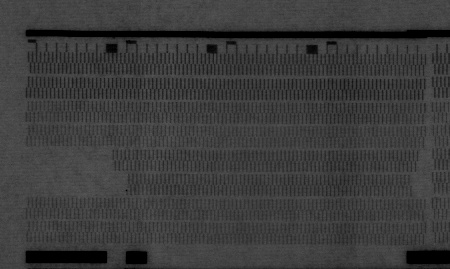Broken hole: (25, 145, 129, 195), (410, 149, 428, 196)
